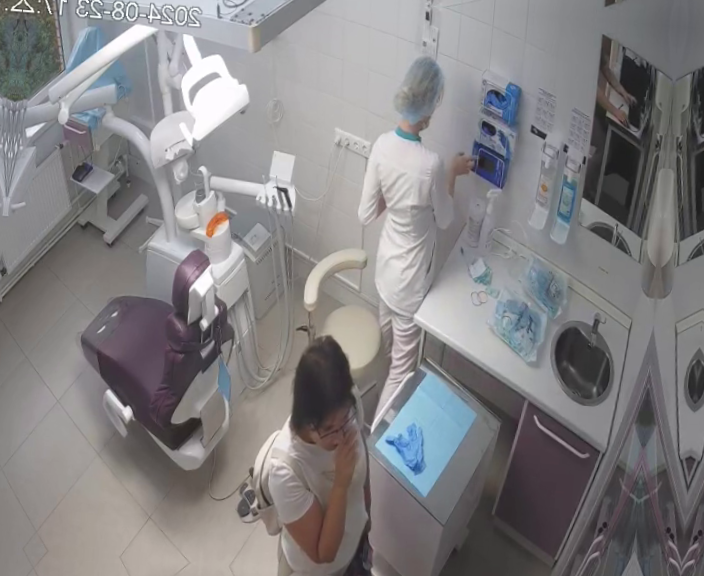Empty: (61, 234, 261, 479)
